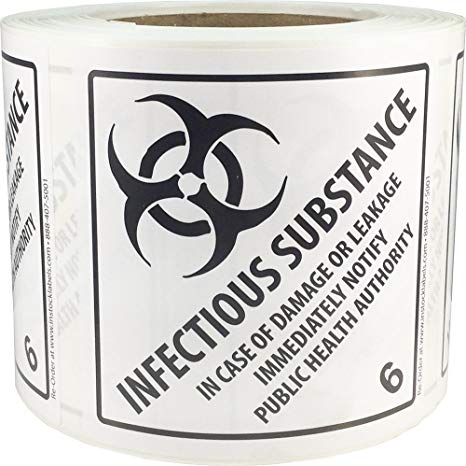InfectiousSubstance: (87, 63, 431, 441)
